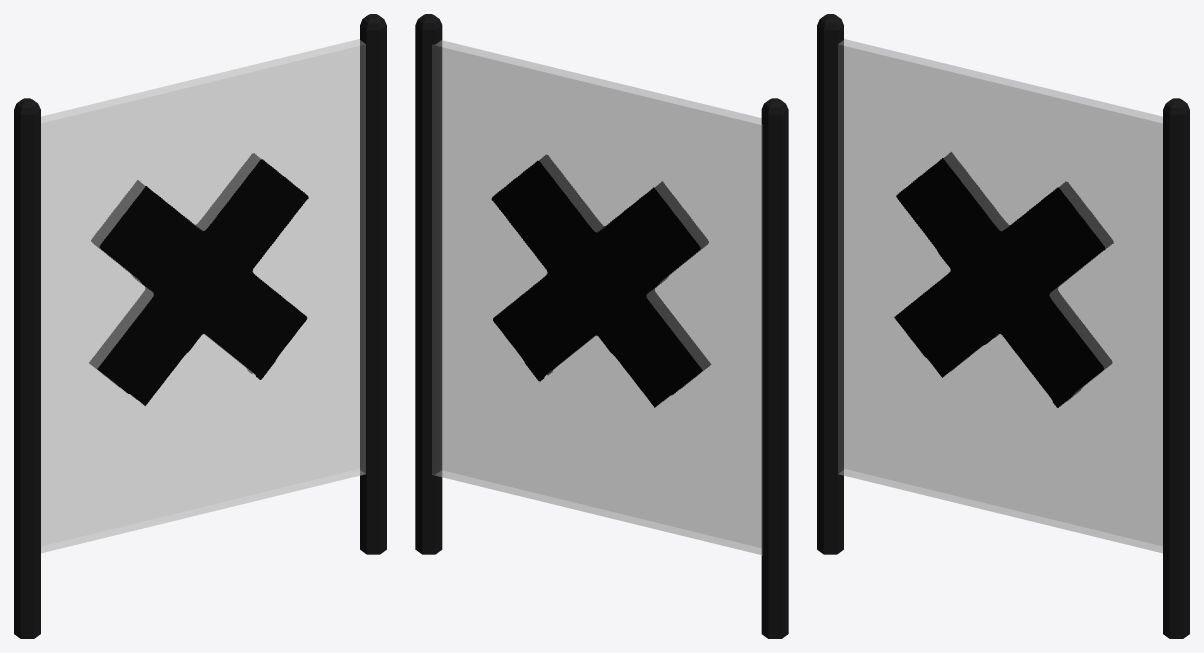
File: block_obstacle.glb
The picture shows the model from 3 angles, left to right: view 1: azimuth 30°, elevation 25°; view 2: azimuth 150°, elevation 25°; view 3: azimuth 330°, elevation 25°; orthographic projection.
Visible parts, largest first — view 1: block; view 2: block; view 3: block.
Part boxes in pixels (x1,y1,x2,y2): block: (14, 14, 386, 638); block: (415, 14, 788, 638); block: (817, 14, 1189, 638).
Size of the model in its own units: 6.79 by 9.45 by 0.4332.
4 materials, 2 textured.
